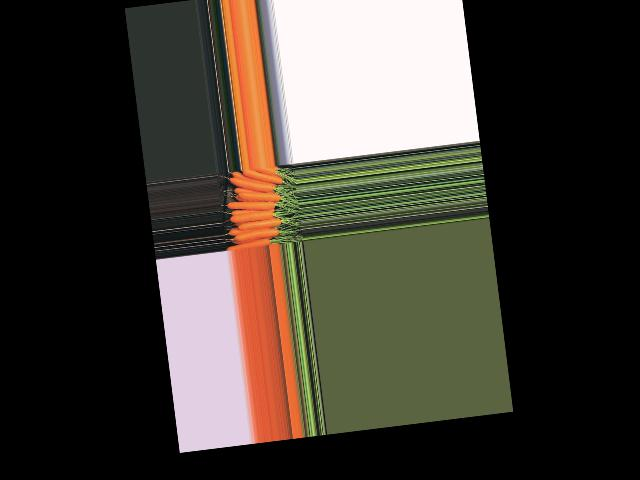carrot: (239, 171, 282, 184)
